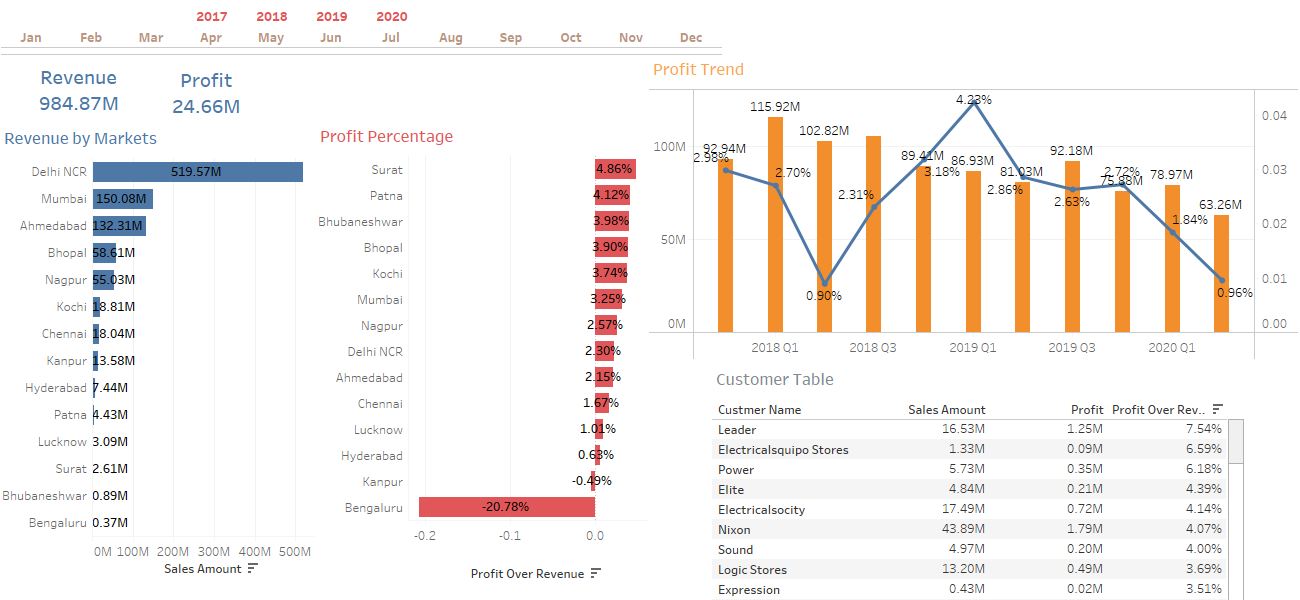

The page's visual inventory and layout, read from the dashboard file:
{"tool":"tableau","page":{"name":"Profit Analysis","canvas":[1300,600],"ordinal":0},"visuals":[{"type":"worksheet","title":"Year Tab","mark":"Automatic","cols":["cy_date"],"box":[182,6,314,20]},{"type":"worksheet","title":"Month Tab","mark":"Automatic","cols":["cy_date"],"box":[1,27,725,31]},{"type":"worksheet","title":"Profit Trend","mark":"Automatic","rows":["sales_amount","Calculation_256142246869929984"],"cols":["cy_date"],"box":[649,52,650,308]},{"type":"worksheet","title":"Revenue","mark":"Automatic","box":[29,64,104,58]},{"type":"worksheet","title":"Profit","mark":"Automatic","box":[167,67,100,52]},{"type":"worksheet","title":"Profit Percentage","mark":"Automatic","rows":["markets_name"],"cols":["Calculation_256142246869929984"],"box":[316,119,331,475]},{"type":"worksheet","title":"Revenue by Markets","mark":"Automatic","rows":["markets_name"],"cols":["sales_amount"],"box":[0,121,314,466]},{"type":"worksheet","title":"Customer Table","mark":"Automatic","rows":["custmer_name"],"box":[712,362,532,239]}]}

Visuals, with their boxes in screenshot pixels (x1, y1, x2, y2), scaled from the page's 1300x600 canvas onto the 1300x600 screenshot:
"Year Tab" worksheet: <bbox>182, 6, 496, 26</bbox>
"Month Tab" worksheet: <bbox>1, 27, 726, 58</bbox>
"Profit Trend" worksheet: <bbox>649, 52, 1299, 360</bbox>
"Revenue" worksheet: <bbox>29, 64, 133, 122</bbox>
"Profit" worksheet: <bbox>167, 67, 267, 119</bbox>
"Profit Percentage" worksheet: <bbox>316, 119, 647, 594</bbox>
"Revenue by Markets" worksheet: <bbox>0, 121, 314, 587</bbox>
"Customer Table" worksheet: <bbox>712, 362, 1244, 599</bbox>
